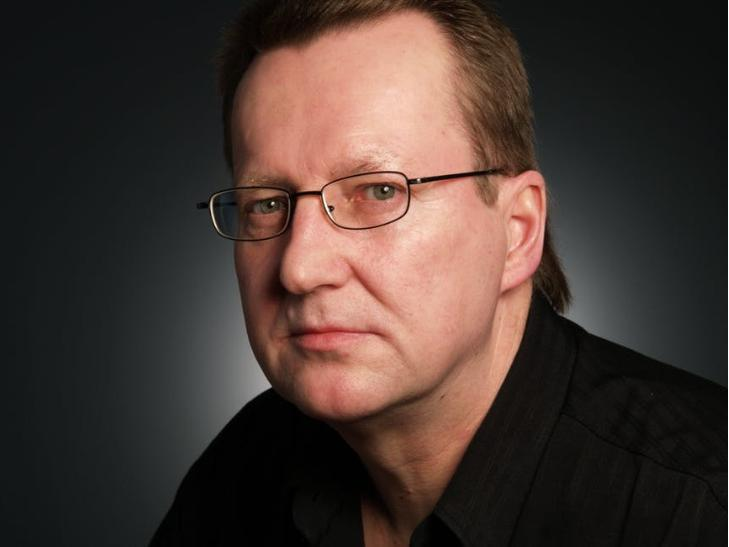face: (229, 17, 499, 416)
